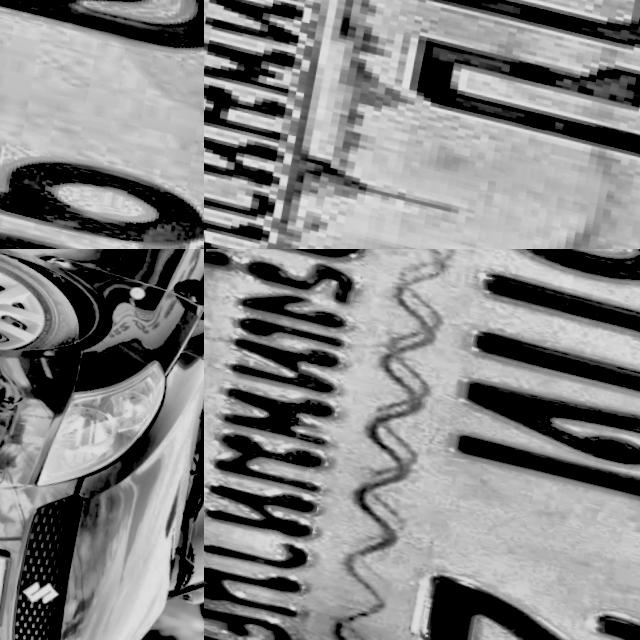license-plate: (204, 249, 640, 640), (204, 0, 640, 249), (0, 0, 204, 249), (0, 541, 19, 625)
